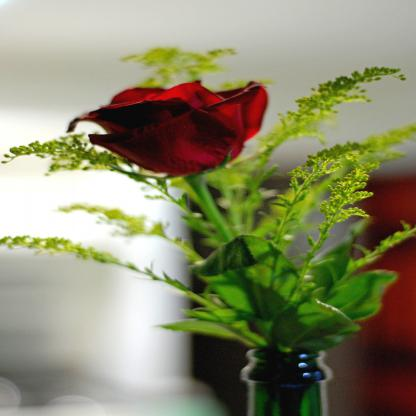vase: (241, 348, 329, 416)
